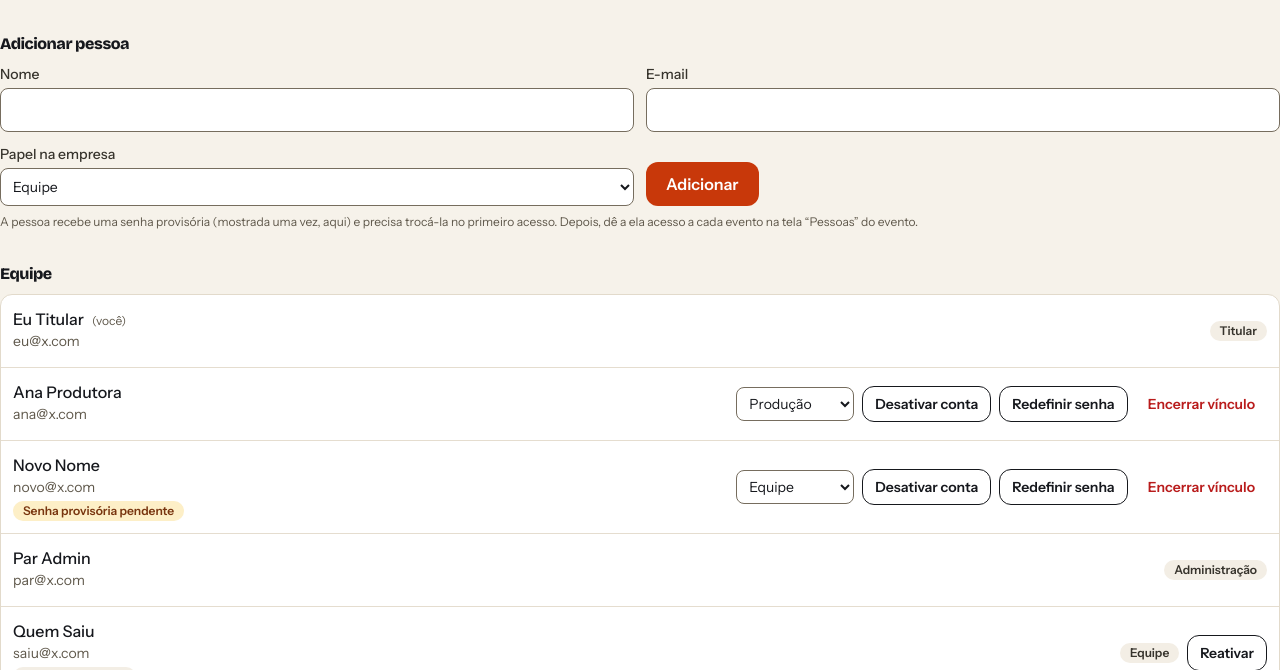
Test: TeamManager › adicionar pessoa › conta que já existia: avisa que a senha dela não muda e NÃO mostra senha provisória
In the field labelled "Nome": (317, 110) [0,88,634,132], type "Já Tinha"
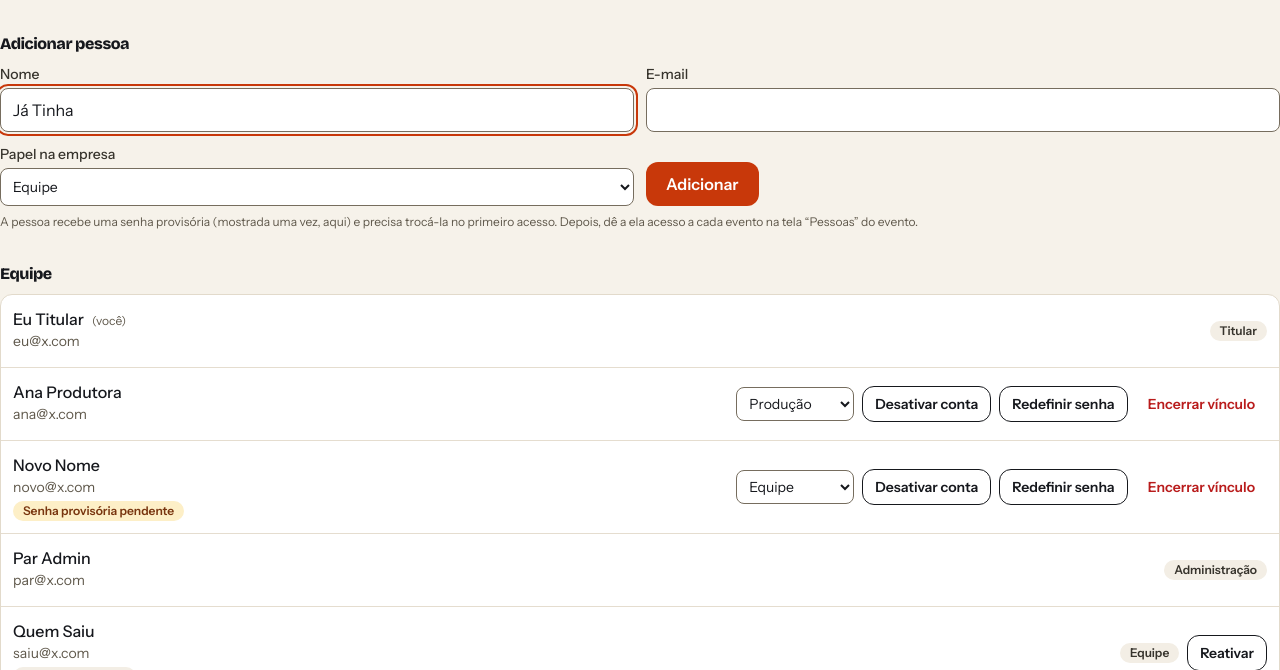
In the field labelled "E-mail": (963, 110) [646,88,1279,132], type "ja@x.com"
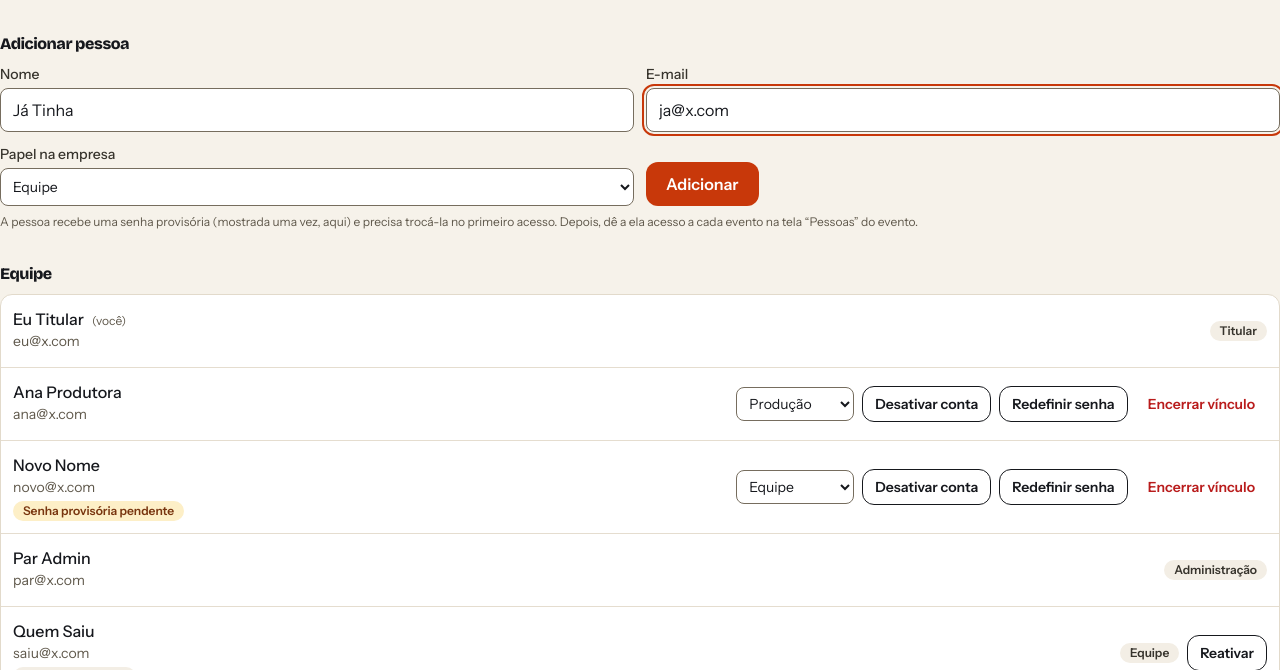
Click the button "Adicionar": (702, 184) [646,162,759,206]
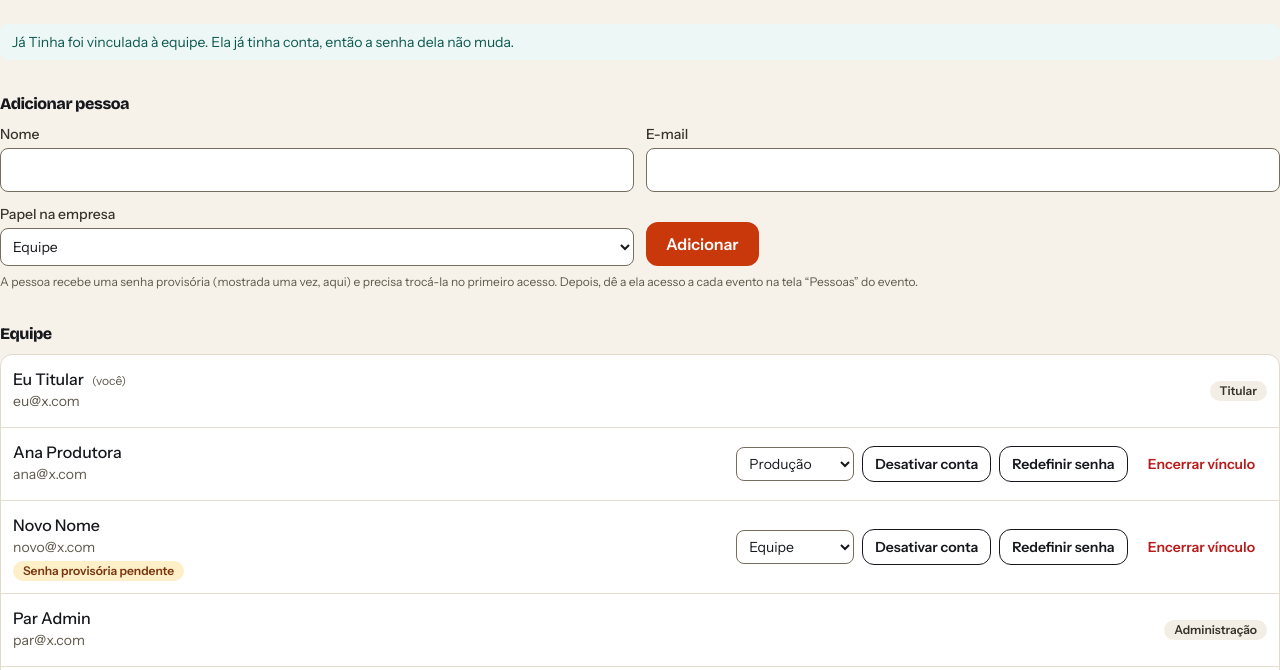
Expected: the message shows "a senha dela não muda", [12,33,514,51]
